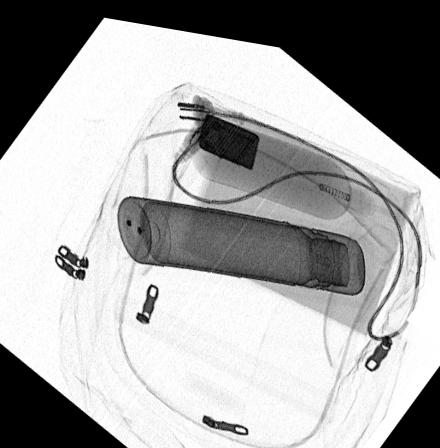Lighter: (197, 105, 259, 161)
